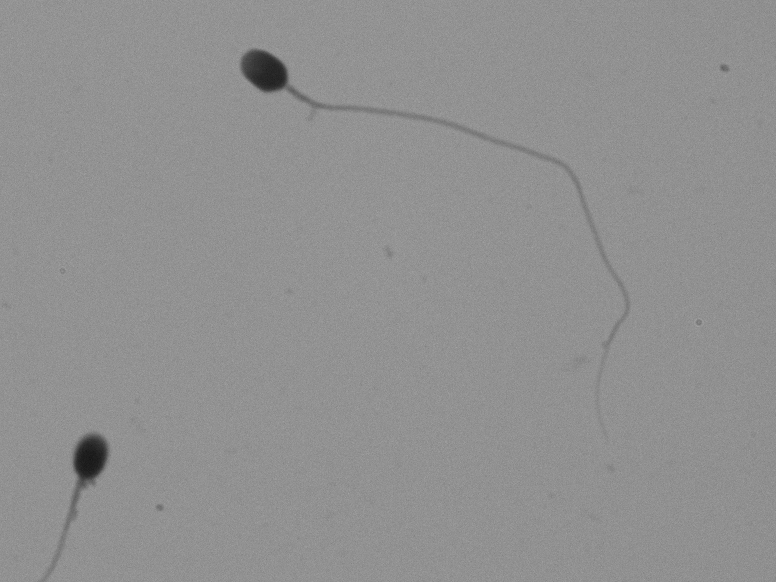Normal: (210, 16, 681, 427)
